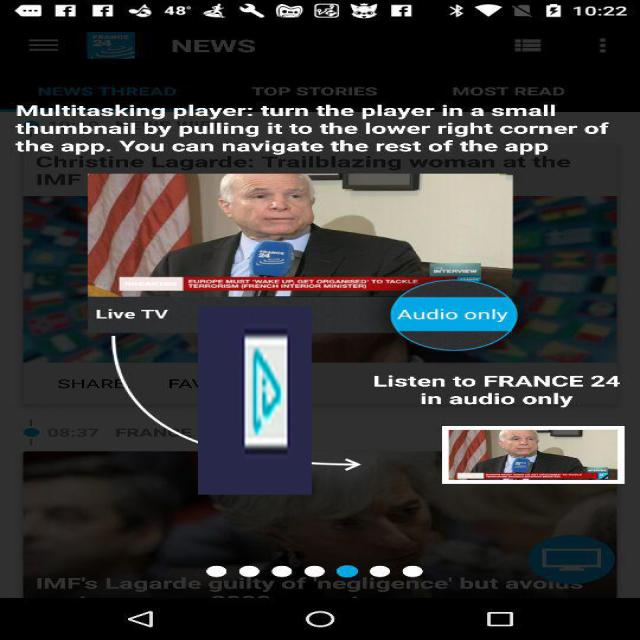sneaking: (198, 306, 312, 494)
